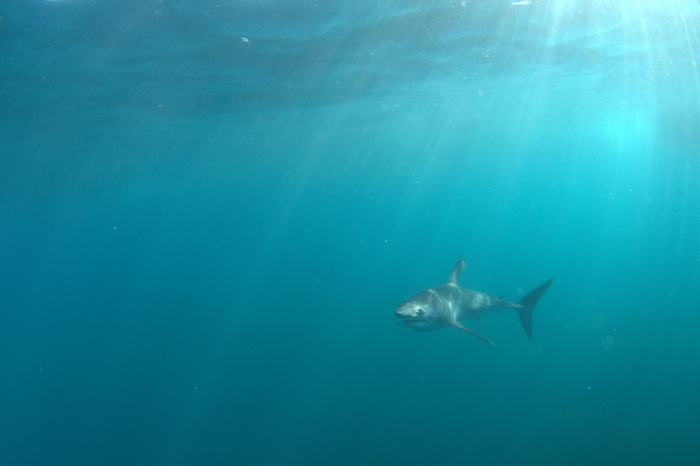Mako: (372, 253, 561, 355)
